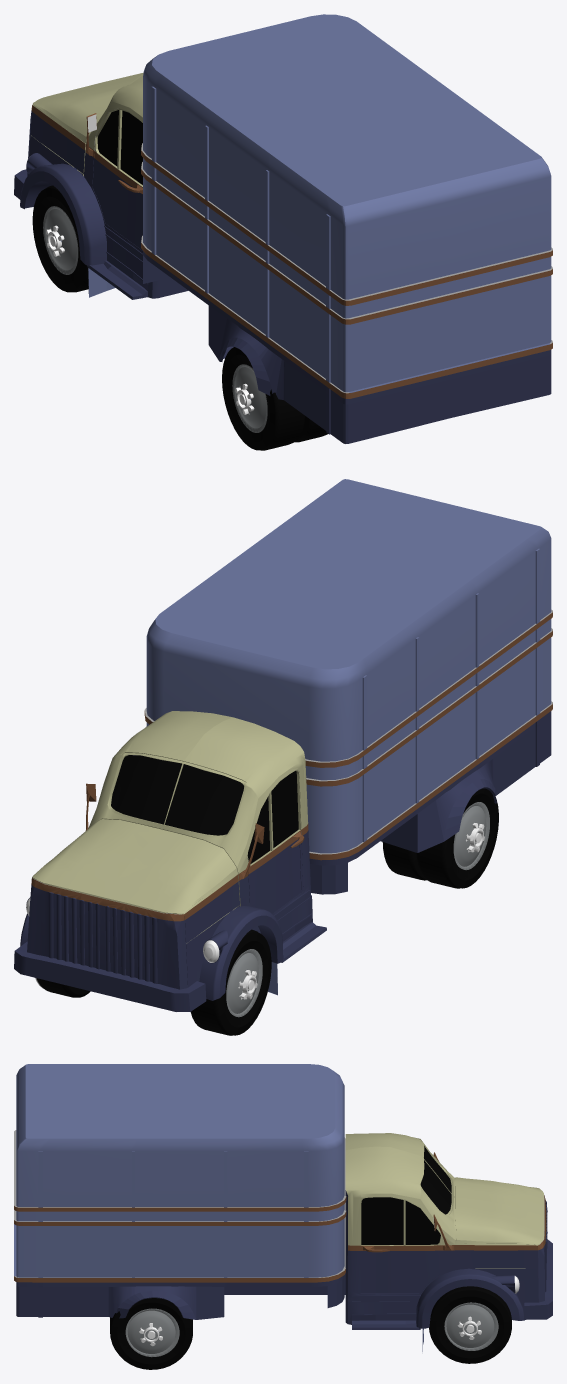
File: AL_truck_TL.fbx
The picture shows the model from 3 angles, top to bottom: view 1: azimuth 30°, elevation 25°; view 2: azimuth 150°, elevation 25°; view 3: azimuth 270°, elevation 25°; orthographic projection. The views are drawn at different scales.
Visible parts, largest first — view 1: pCylinder15; view 2: pCylinder15; view 3: pCylinder15.
Part boxes in pixels (x1,y1,x2,y2): pCylinder15: (14, 14, 552, 450); pCylinder15: (14, 479, 552, 1035); pCylinder15: (14, 1064, 552, 1369).
Size of the model in its own units: 3.3 by 3.94 by 8.47.
